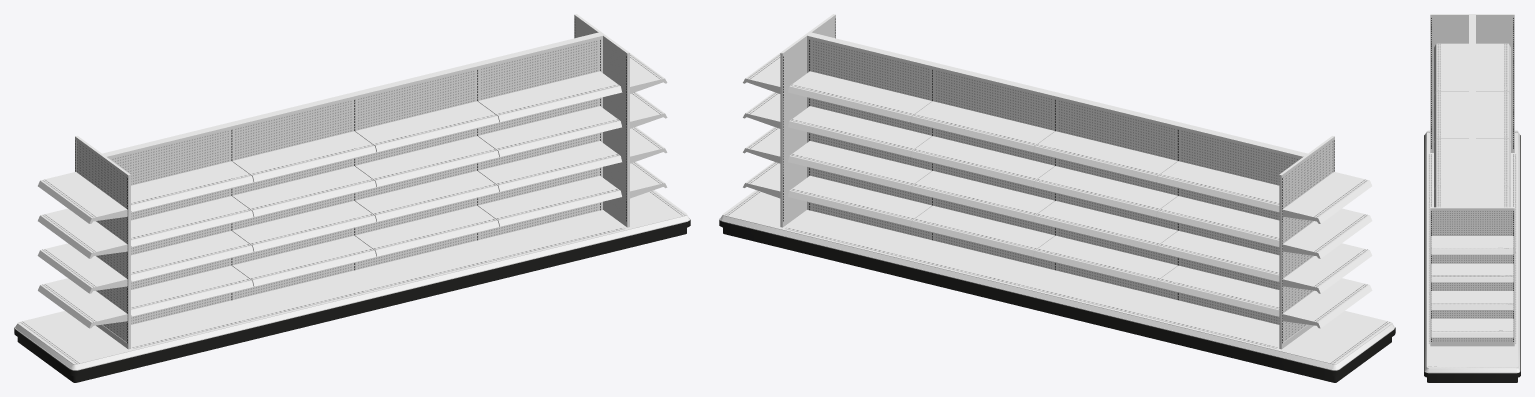
File: Gondola.glb
3 renders of one model, left to right at view 1: azimuth 30°, elevation 25°; view 2: azimuth 150°, elevation 25°; view 3: azimuth 270°, elevation 25°, orthographic. The views are drawn at different scales.
Parts seen in each view (by area): view 1: UA0006PWStart, UA0006PW, UA0006PW (1), US0006PWStart, EF0013PWStart, BP0005PW (1), BP0005PW (3), BP0005PW (5), EF0013PW, BP0005PWStart, GA0006PWAG, GA0006PWAG (2) (+4 smaller); view 2: UA0006PW (1), UA0006PWStart, UA0006PW, US0006PWStart, EF0013PWStart, BP0005PW (6), BP0005PW (2), BP0005PW (4), EF0013PW, BP0005PW, GA0006PWAG (5), GA0006PWAG (3) (+4 smaller); view 3: EF0013PW, US0006PWStart, UA0006PWStart, UA0006PW, ED0003PWAG (1), EF0013PWStart, UA0006PW (1), GS0006PWAG, GS0006PWAG (1), GA0006PWAG, GA0006PWAG (1), ED0003PWAG (+4 smaller).
Boxes of the visible parts, x1,y1,x2,y2 form: UA0006PWStart: (230, 92, 376, 286); UA0006PW: (353, 62, 499, 256); UA0006PW (1): (476, 32, 622, 226); US0006PWStart: (102, 122, 253, 316); EF0013PWStart: (37, 136, 130, 349); BP0005PW (1): (234, 99, 352, 299); BP0005PW (3): (357, 69, 474, 269); BP0005PW (5): (480, 39, 597, 239); EF0013PW: (574, 14, 667, 227); BP0005PWStart: (111, 129, 229, 324); GA0006PWAG: (232, 270, 382, 338); GA0006PWAG (2): (355, 240, 505, 308); UA0006PW (1): (788, 32, 933, 226); UA0006PWStart: (1033, 92, 1179, 286); UA0006PW: (911, 62, 1056, 256); US0006PWStart: (1156, 122, 1307, 316); EF0013PWStart: (1279, 136, 1372, 349); BP0005PW (6): (812, 39, 929, 239); BP0005PW (2): (1058, 99, 1175, 299); BP0005PW (4): (935, 69, 1052, 269); EF0013PW: (743, 14, 835, 227); BP0005PW: (1180, 129, 1298, 324); GA0006PWAG (5): (781, 210, 931, 278); GA0006PWAG (3): (904, 240, 1054, 308); EF0013PW: (1430, 207, 1514, 346); US0006PWStart: (1434, 15, 1510, 94); UA0006PWStart: (1434, 64, 1510, 142); UA0006PW: (1434, 112, 1510, 189); ED0003PWAG (1): (1424, 344, 1520, 382); EF0013PWStart: (1430, 14, 1514, 152); UA0006PW (1): (1434, 159, 1510, 207); GS0006PWAG: (1424, 154, 1433, 205); GS0006PWAG (1): (1511, 154, 1520, 205); GA0006PWAG: (1424, 201, 1433, 253); GA0006PWAG (1): (1511, 201, 1520, 253); ED0003PWAG: (1424, 130, 1520, 158).
Size of the model in its own units: 6.15 by 1.83 by 1.05.
Materials: 11 (11 with a texture image).
